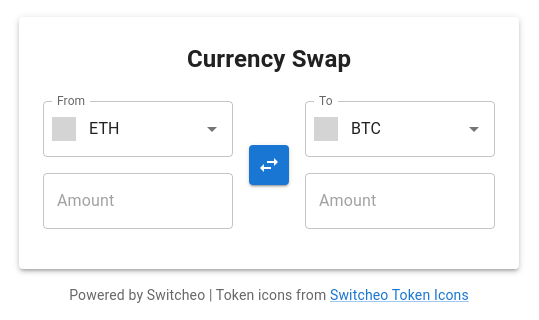
Test: App › maintains amount values during swap
Expected: the dropdown labelled "From" holds "ETH", [84,110,194,148]
Enter amounts
Type "1" into the 1st field with placeholder "Amount" at point(138, 201), box [43,173,233,229]
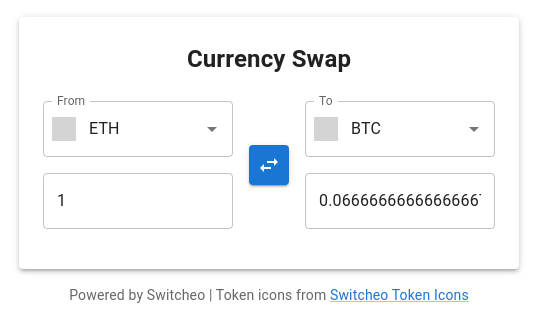
Perform swap
Click the button named "Swap tokens" at point(269, 165), box [249,145,289,185]
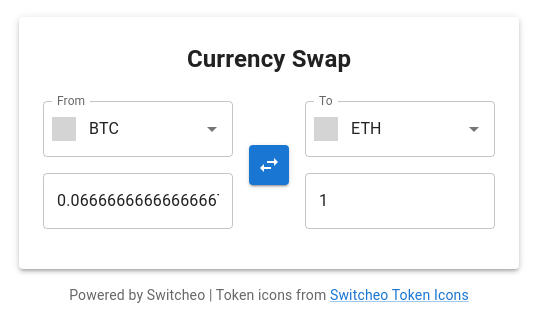
Now the 2nd field holds "1", box [305,173,495,229]
